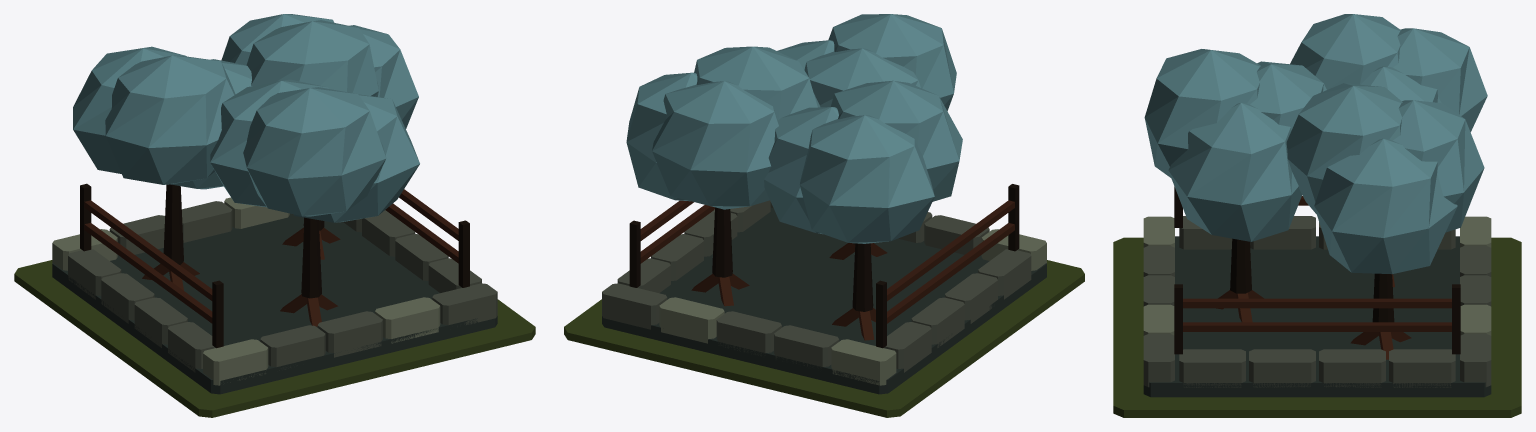
File: frostgrove_t3.glb
3 views of the same model, side by side, from view 1: azimuth 30°, elevation 25°; view 2: azimuth 150°, elevation 25°; view 3: azimuth 270°, elevation 25° (orthographic). The views are drawn at different scales.
Parts seen in each view (by area): view 1: MMR | frostgrove | T03 Architecture.001, MMR | frostgrove | Tier 03 Ground.001; view 2: MMR | frostgrove | T03 Architecture.001, MMR | frostgrove | Tier 03 Ground.001; view 3: MMR | frostgrove | T03 Architecture.001, MMR | frostgrove | Tier 03 Ground.001.
Boxes of the visible parts, x1=… form: MMR | frostgrove | T03 Architecture.001: x1=52, y1=14, x2=497, y2=394; MMR | frostgrove | Tier 03 Ground.001: x1=14, y1=260, x2=535, y2=417; MMR | frostgrove | T03 Architecture.001: x1=602, y1=14, x2=1046, y2=394; MMR | frostgrove | Tier 03 Ground.001: x1=564, y1=260, x2=1084, y2=417; MMR | frostgrove | T03 Architecture.001: x1=1143, y1=14, x2=1491, y2=397; MMR | frostgrove | Tier 03 Ground.001: x1=1113, y1=237, x2=1521, y2=417.
Size of the model in its own units: 2.35 by 1.74 by 2.35.
1 material, 1 textured.
